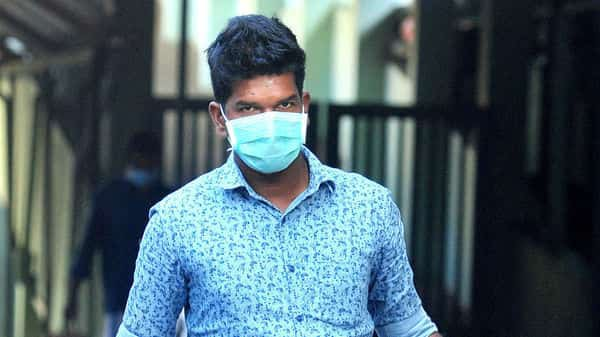mask: (196, 14, 350, 192)
